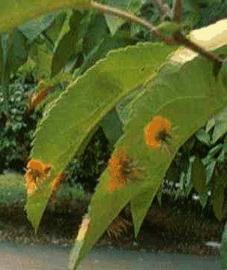Apple rust leaf: (21, 22, 224, 269)
